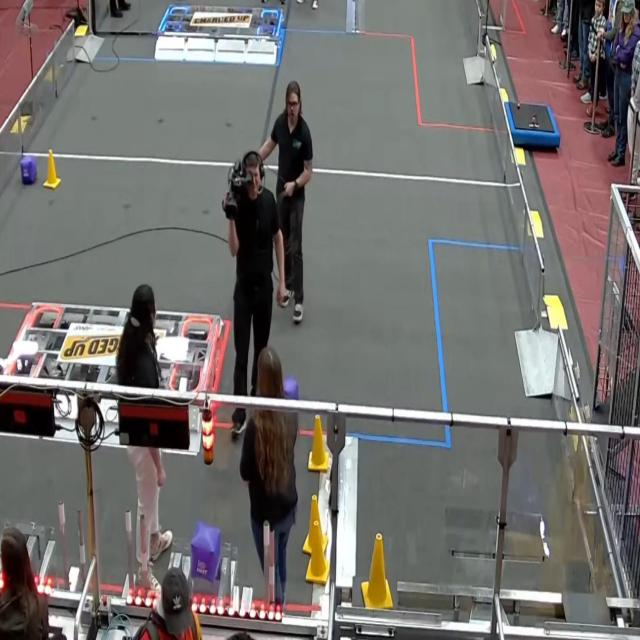frc_cone: (361, 532, 392, 612), (305, 520, 331, 585), (302, 494, 328, 558), (307, 415, 330, 472), (42, 150, 60, 188)
frc_cube: (191, 524, 220, 581), (282, 371, 302, 406), (21, 156, 38, 184)
